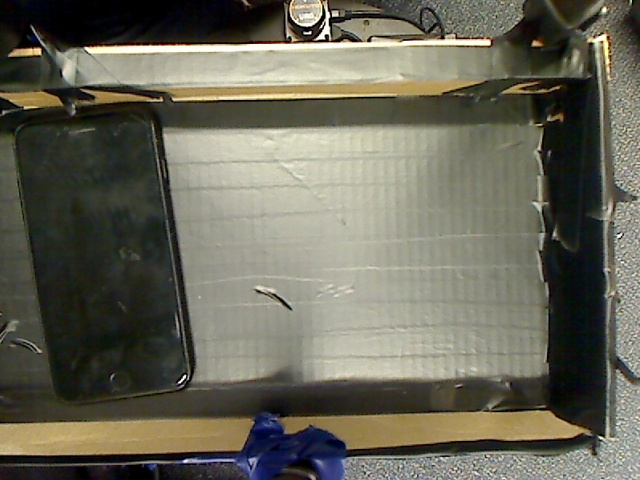phone: (6, 100, 203, 399)
